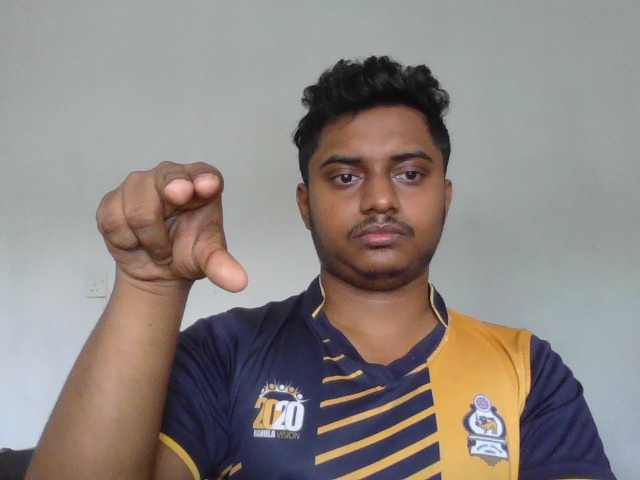No: (94, 157, 253, 299)
